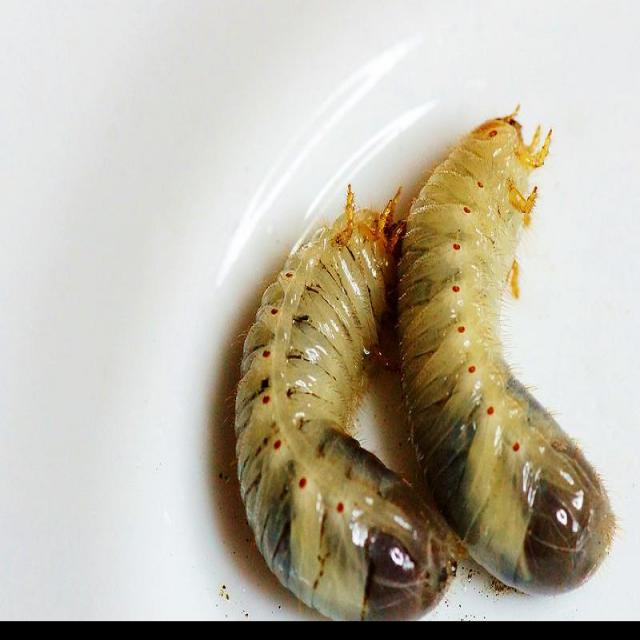Grub-Adult-: (393, 98, 624, 610), (229, 173, 459, 620)
